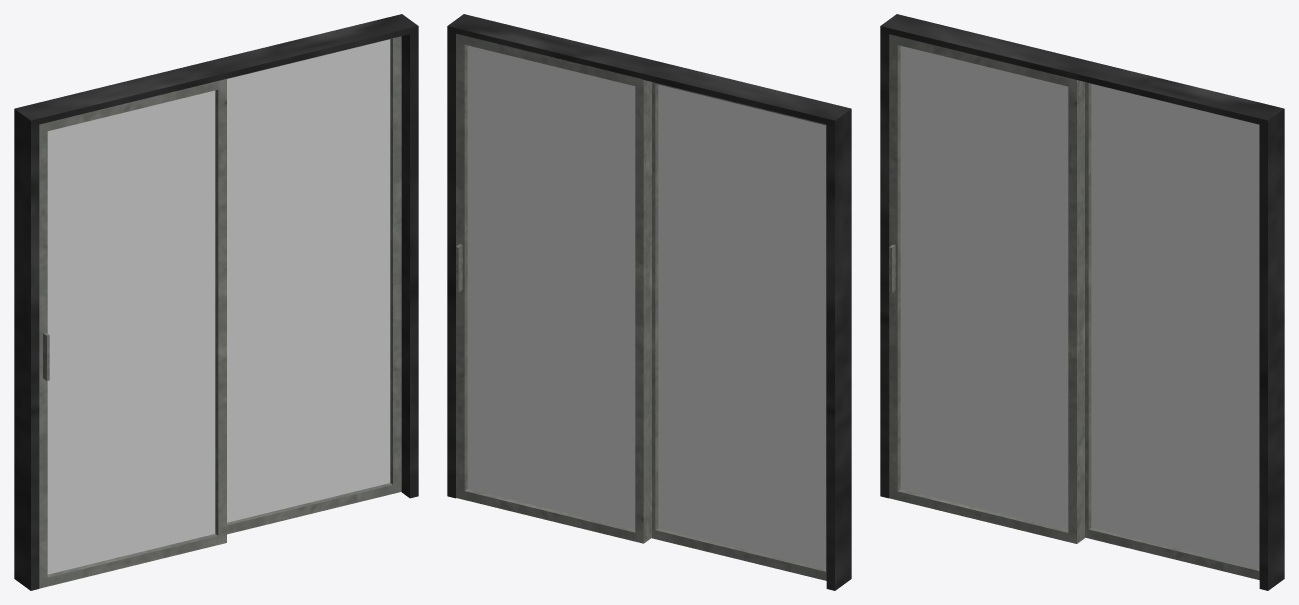
The model's file is Garden_Gate.glb.
The picture shows the model from 3 angles, left to right: view 1: azimuth 30°, elevation 25°; view 2: azimuth 150°, elevation 25°; view 3: azimuth 330°, elevation 25°; orthographic projection.
Visible parts, largest first — view 1: garden_gate, garden_gate_01, Door_frame_003; view 2: garden_gate_01, garden_gate, Door_frame_003; view 3: garden_gate, garden_gate_01, Door_frame_003.
Boxes of the visible parts, x1,y1,x2,y2 form: garden_gate: (39,79,226,588); garden_gate_01: (227,36,401,534); Door_frame_003: (14,14,418,590); garden_gate_01: (456,33,651,543); garden_gate: (651,82,826,580); Door_frame_003: (447,14,851,590); garden_gate: (889,34,1084,543); garden_gate_01: (1085,82,1259,579); Door_frame_003: (880,14,1284,590).
Size of the model in its own units: 2.35 by 2.72 by 0.2514.
3 materials, 2 textured.
